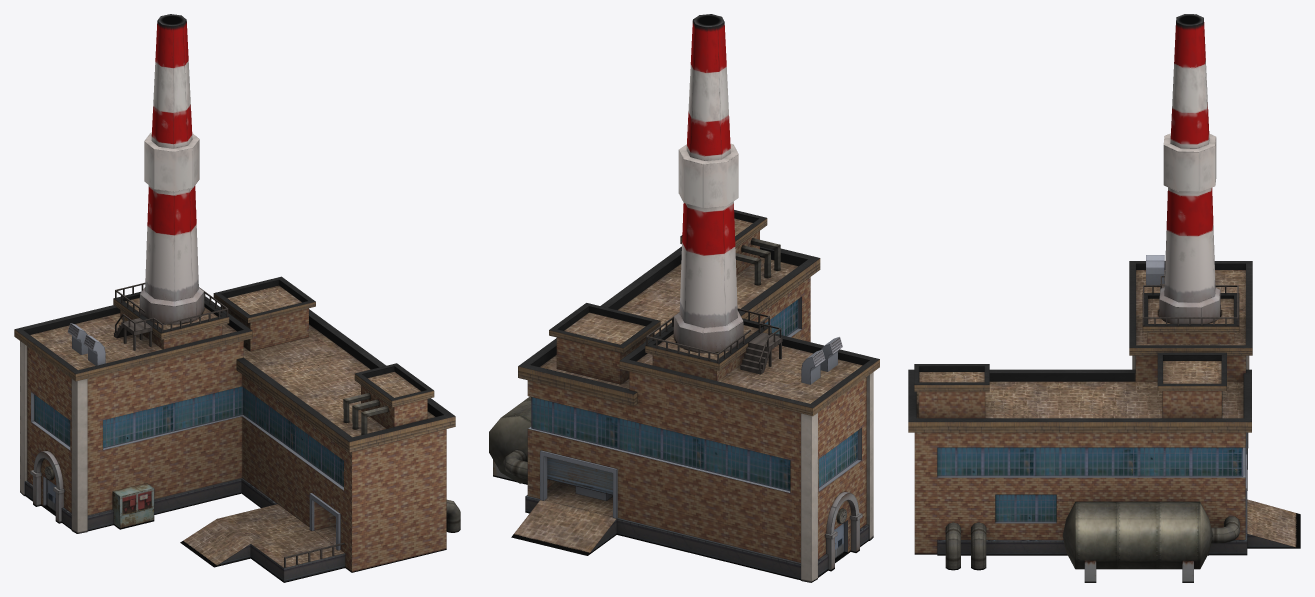
The model's file is Power Plant.FBX.
3 views of the same model, side by side, from view 1: azimuth 30°, elevation 25°; view 2: azimuth 150°, elevation 25°; view 3: azimuth 270°, elevation 25° (orthographic). The views are drawn at different scales.
Visible parts, largest first — view 1: Box001, Cylinder002; view 2: Box001, Cylinder002; view 3: Box001, Cylinder002.
Part boxes in pixels (x1=…): Box001: x1=14, y1=276, x2=460, y2=582; Cylinder002: x1=139, y1=14, x2=204, y2=324; Box001: x1=489, y1=210, x2=879, y2=582; Cylinder002: x1=673, y1=14, x2=743, y2=353; Box001: x1=908, y1=255, x2=1300, y2=582; Cylinder002: x1=1159, y1=14, x2=1220, y2=323.
Size of what is drawn, in the model's own units: 54.6 by 74.81 by 56.98.
2 materials, 2 textured.
